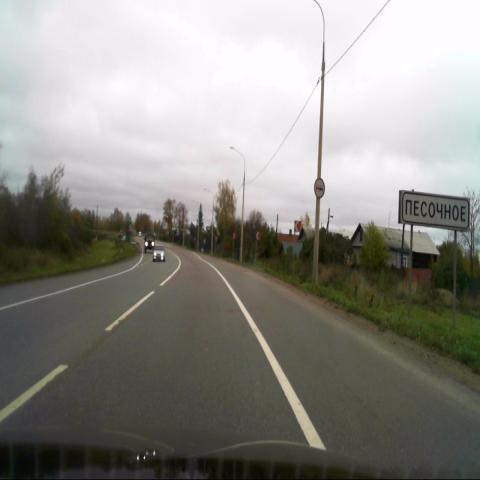3_20: (314, 176, 325, 198)
